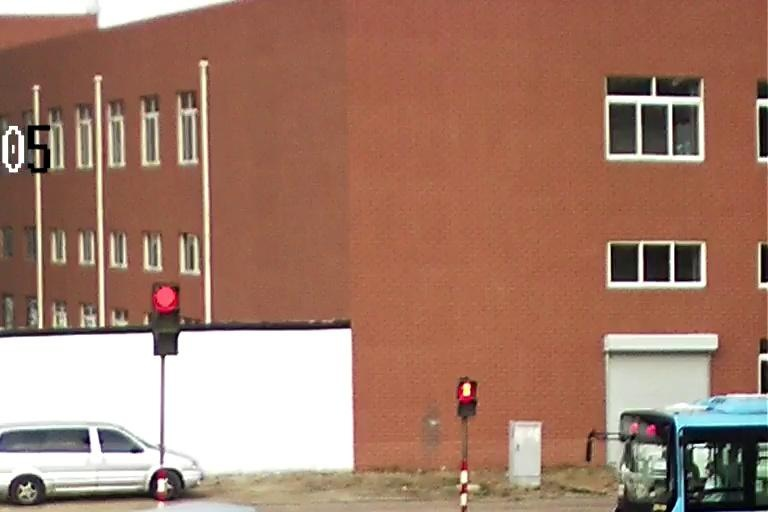red: (154, 283, 179, 309)
redpeople: (460, 380, 474, 398)
